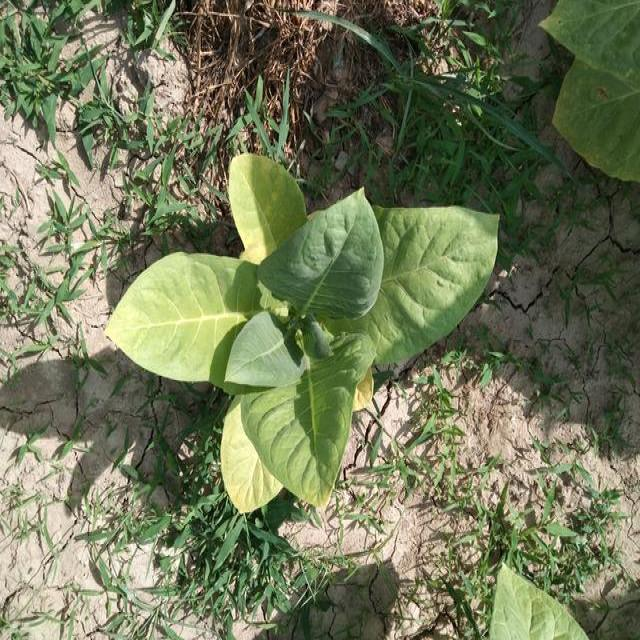crop: (103, 146, 508, 510)
